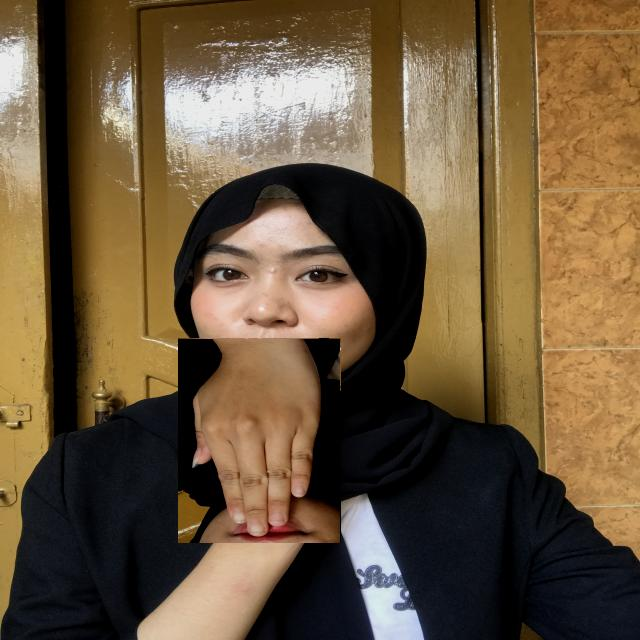ganteng: (178, 338, 341, 543)
